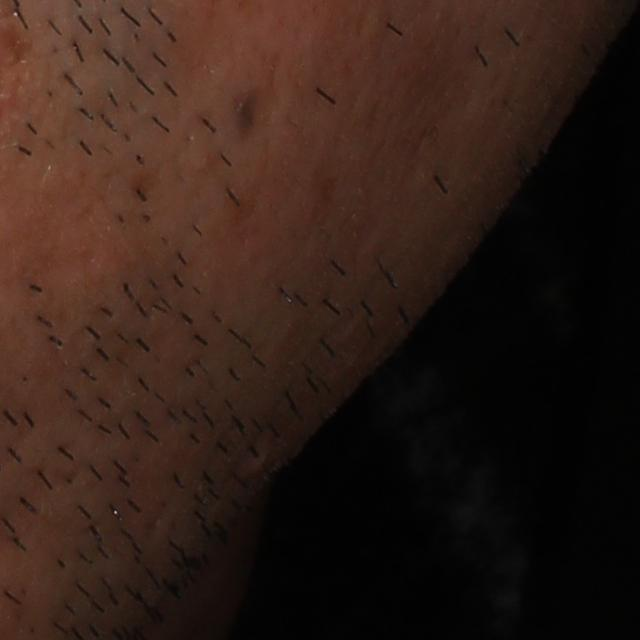nevus: (233, 87, 262, 140)
